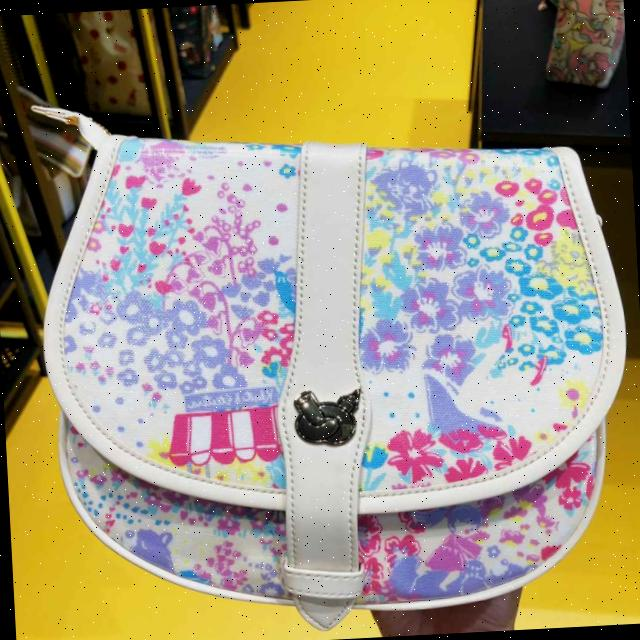handbag: (6, 90, 640, 640)
